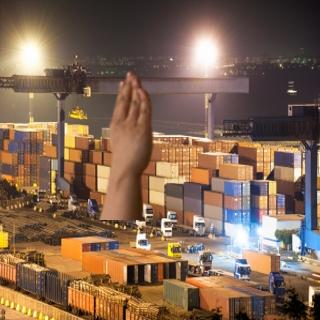RIGHT: (103, 66, 156, 185)
